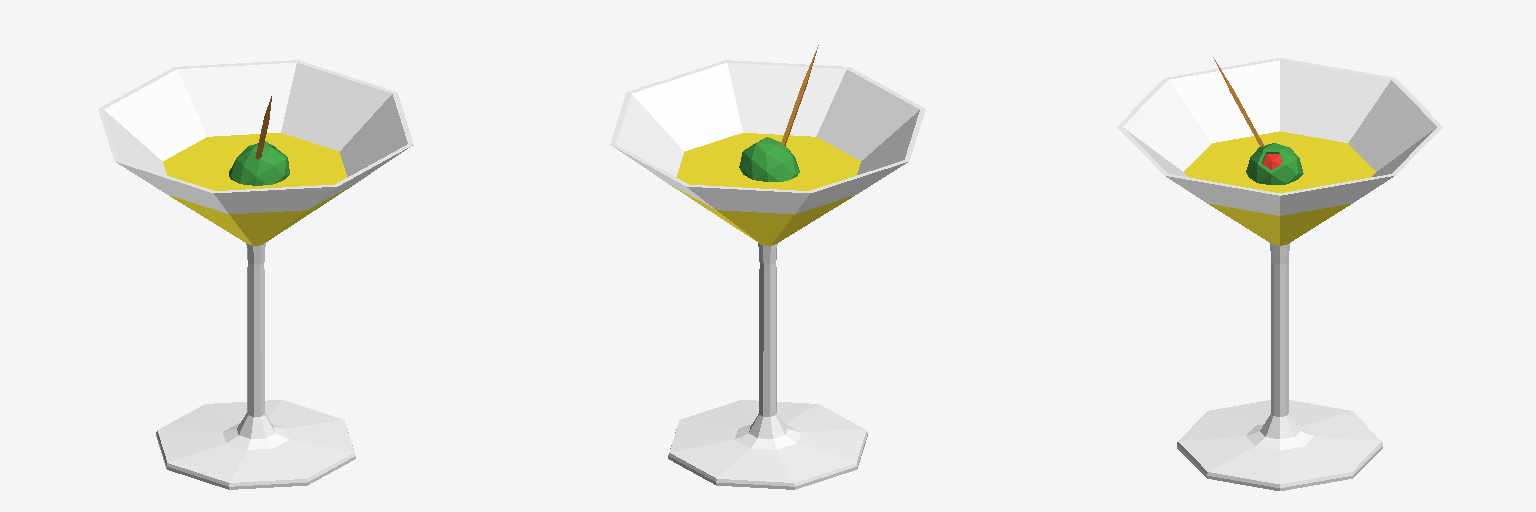
The model's file is Martini_01.obj.
The picture shows the model from 3 angles: view 1: azimuth 30°, elevation 25°; view 2: azimuth 150°, elevation 25°; view 3: azimuth 270°, elevation 25°; orthographic projection.
Visible parts, largest first — view 1: Circle.003; view 2: Circle.003; view 3: Circle.003.
Part boxes in pixels (x1,y1,x2,y2): Circle.003: (98,60,413,489); Circle.003: (610,45,925,489); Circle.003: (1117,57,1442,490).
Bounding box in the file's own units: 7.69 × 9.96 × 7.69.